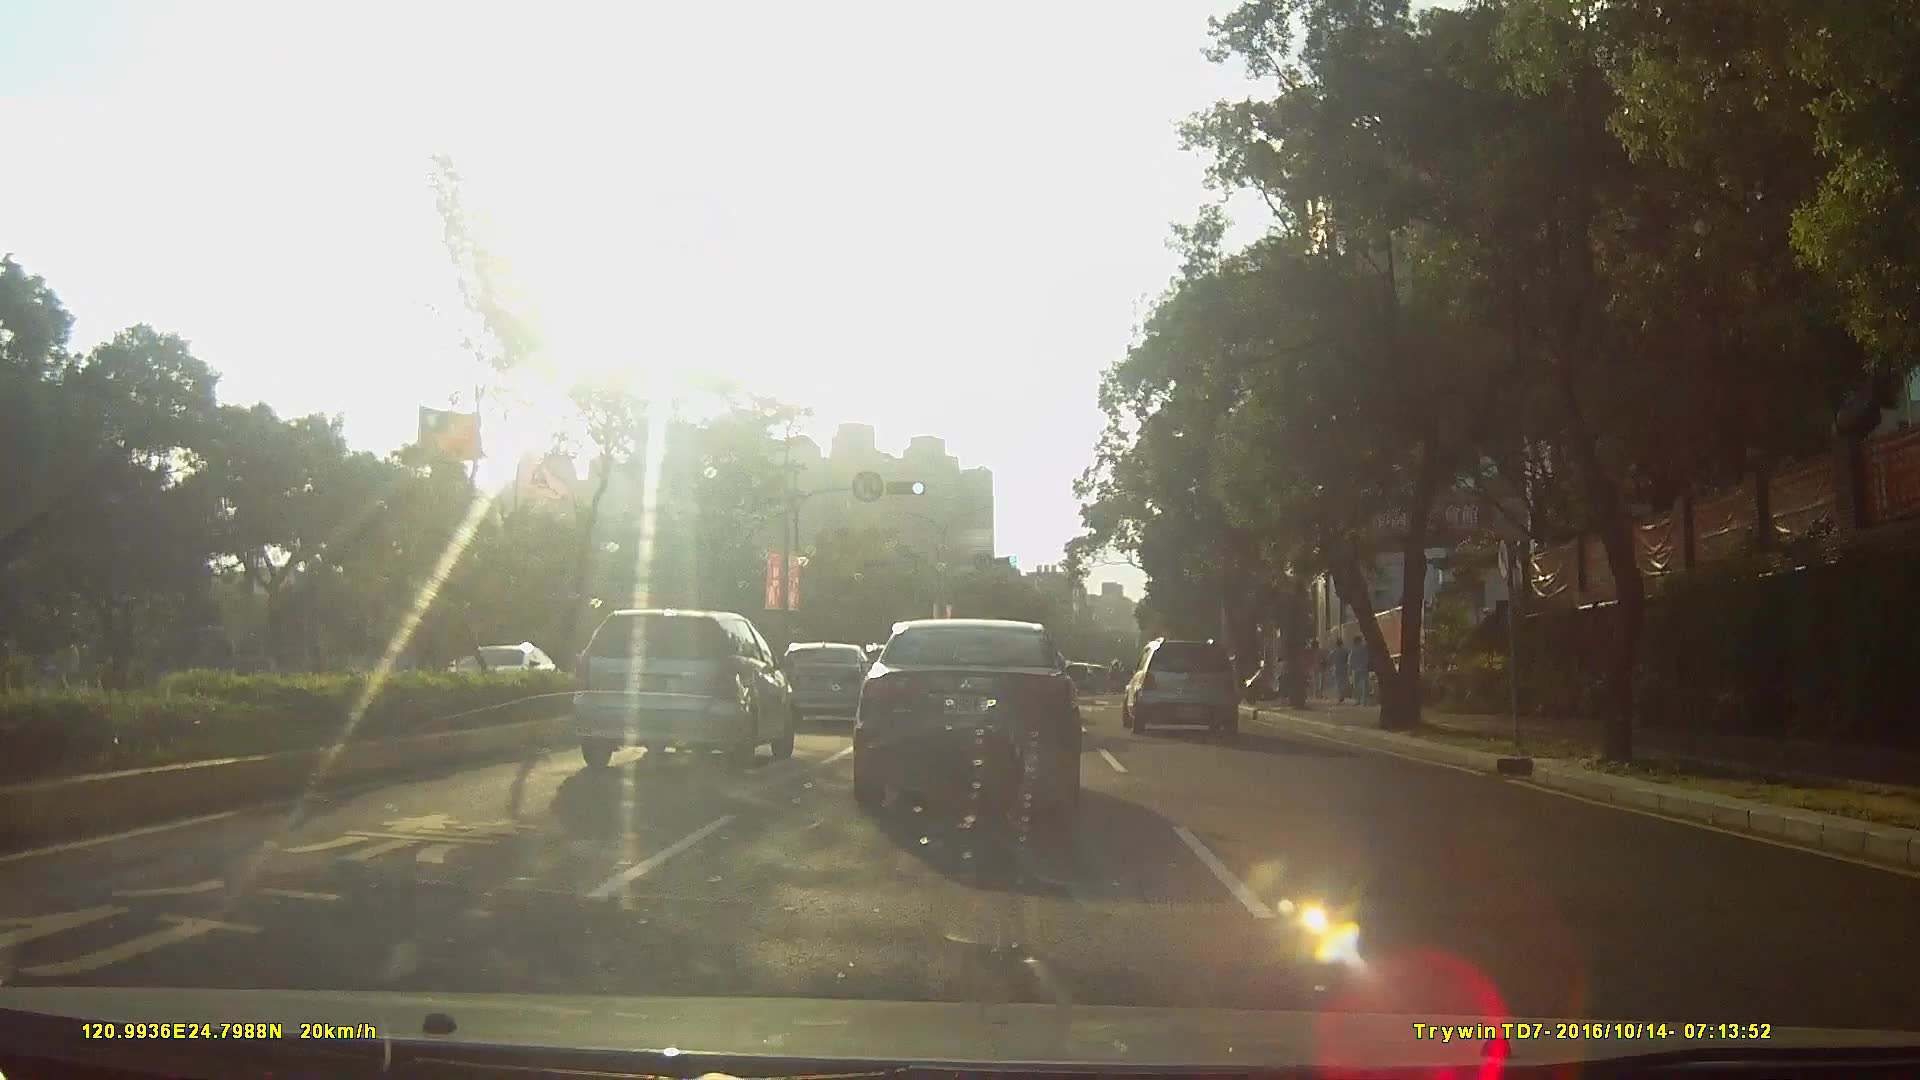pedestrian: (1348, 636, 1375, 713), (1328, 637, 1350, 713)
vehicle: (850, 615, 1082, 823), (567, 607, 794, 774), (1118, 637, 1252, 738), (774, 643, 878, 729)
